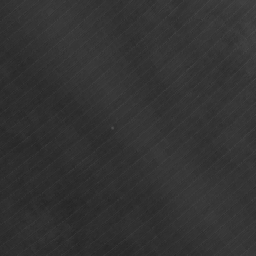Target: (108, 125, 114, 132)
